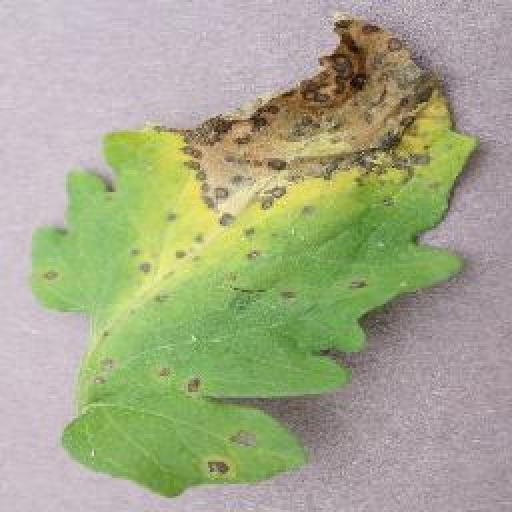Septoria: (35, 13, 474, 496)
